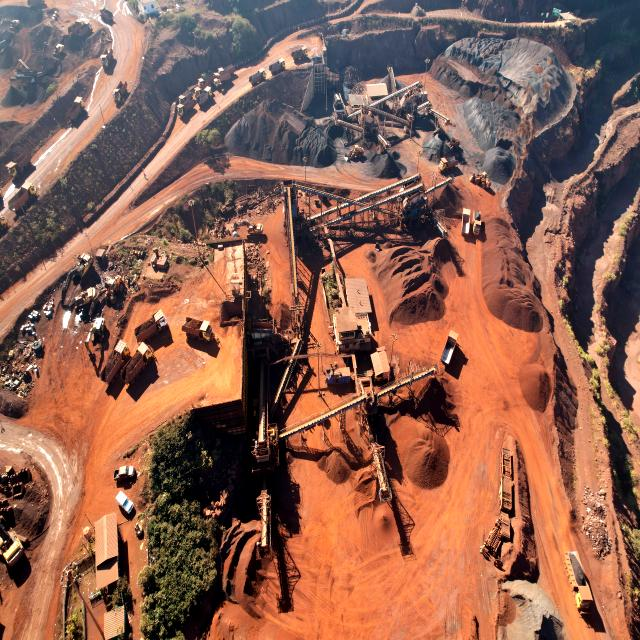Dumper truck: (101, 341, 127, 380), (128, 344, 151, 382), (138, 312, 164, 340), (184, 320, 212, 342), (12, 183, 34, 210), (9, 184, 30, 210), (442, 331, 457, 364), (20, 184, 37, 211), (571, 584, 586, 612), (8, 158, 29, 177), (7, 159, 27, 177), (440, 158, 461, 175), (438, 158, 459, 174), (4, 160, 21, 178), (438, 158, 456, 174), (69, 97, 84, 116), (112, 82, 126, 102), (462, 207, 472, 234), (70, 100, 84, 119), (196, 87, 212, 103), (199, 72, 216, 87), (72, 21, 87, 38), (177, 101, 196, 114), (72, 96, 85, 115), (70, 20, 86, 35), (198, 73, 214, 88), (75, 20, 91, 35), (78, 21, 92, 38), (112, 84, 125, 102), (0, 217, 10, 240), (198, 87, 213, 102), (178, 103, 194, 117), (249, 71, 265, 85), (193, 86, 209, 100), (70, 18, 85, 32), (178, 91, 194, 104), (200, 75, 217, 87), (180, 90, 197, 102), (75, 20, 89, 34), (251, 70, 267, 82), (102, 49, 113, 66), (99, 50, 110, 67), (272, 59, 286, 72), (294, 46, 308, 59), (80, 22, 93, 36), (97, 7, 110, 21), (250, 71, 265, 83), (218, 66, 233, 78), (0, 215, 9, 235), (101, 50, 112, 66), (474, 212, 482, 234), (195, 84, 212, 94), (99, 8, 111, 22), (294, 50, 309, 61), (102, 51, 110, 70), (100, 52, 110, 67), (72, 96, 84, 108), (210, 77, 223, 88)
Excavator: (61, 250, 92, 306), (86, 317, 105, 358), (0, 465, 17, 494), (74, 283, 92, 305), (0, 499, 11, 530), (0, 502, 9, 535), (247, 224, 264, 239), (42, 40, 57, 56), (0, 16, 15, 31), (54, 42, 67, 56), (8, 19, 20, 31)
car: (116, 492, 134, 512), (114, 464, 134, 480)
